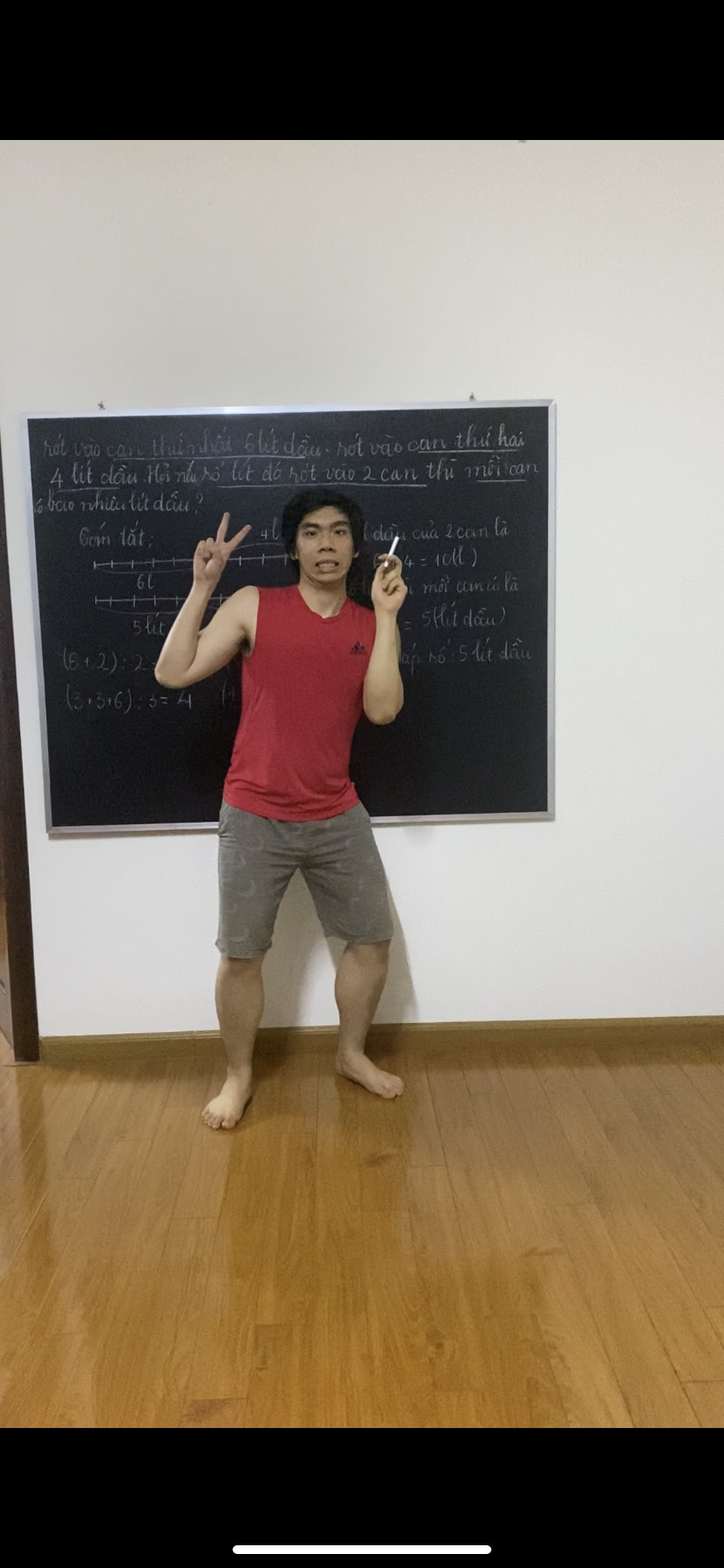cigarette: (387, 532, 403, 556)
person: (157, 476, 416, 1146)
